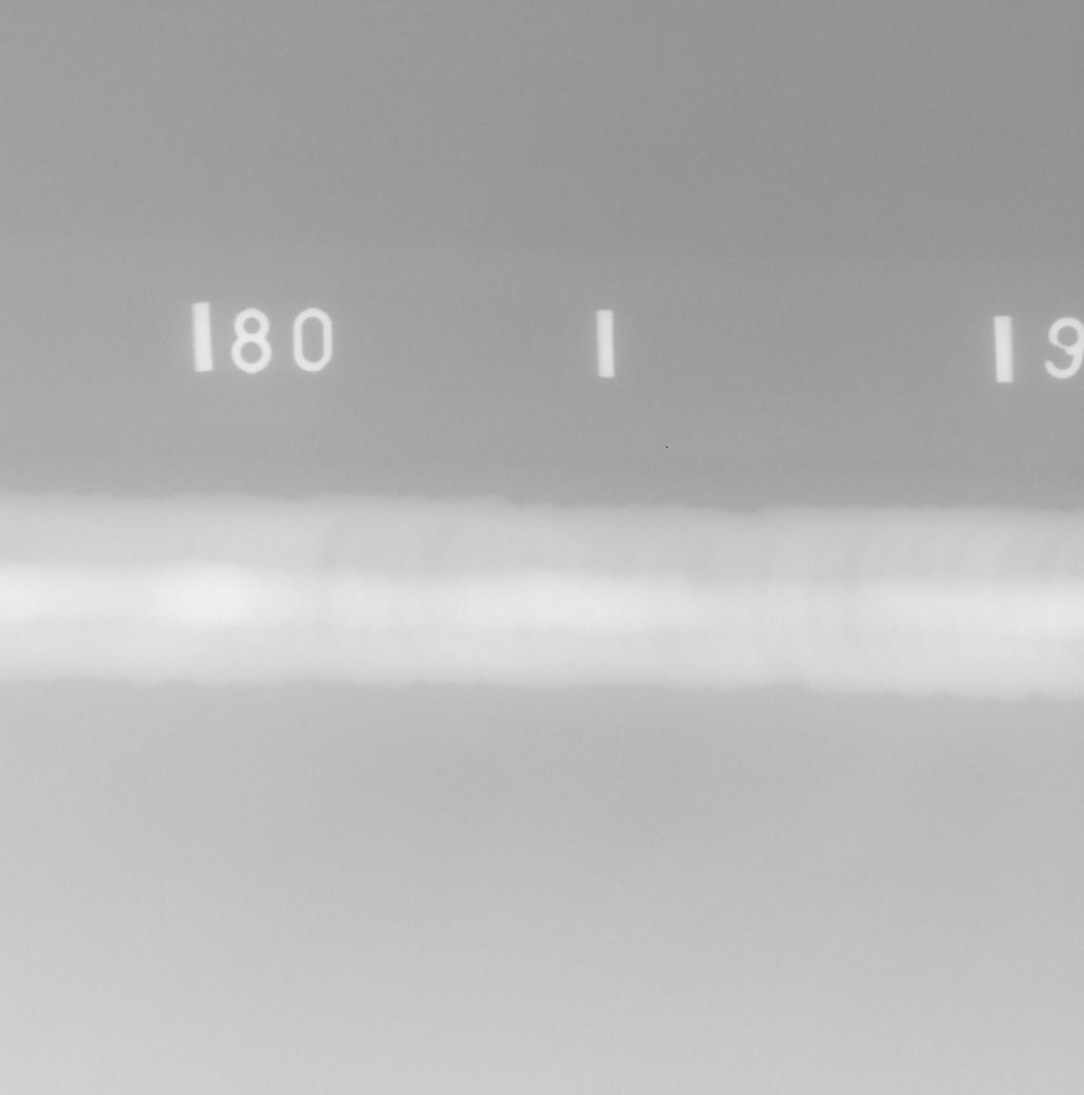Pore/Porosity: (892, 627, 897, 632)
